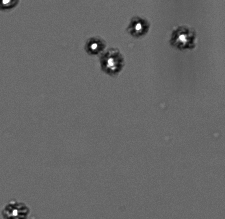Living Cell: (100, 48, 126, 76), (170, 25, 197, 51), (126, 15, 152, 37), (2, 199, 29, 217), (86, 35, 106, 55), (1, 1, 20, 11)
